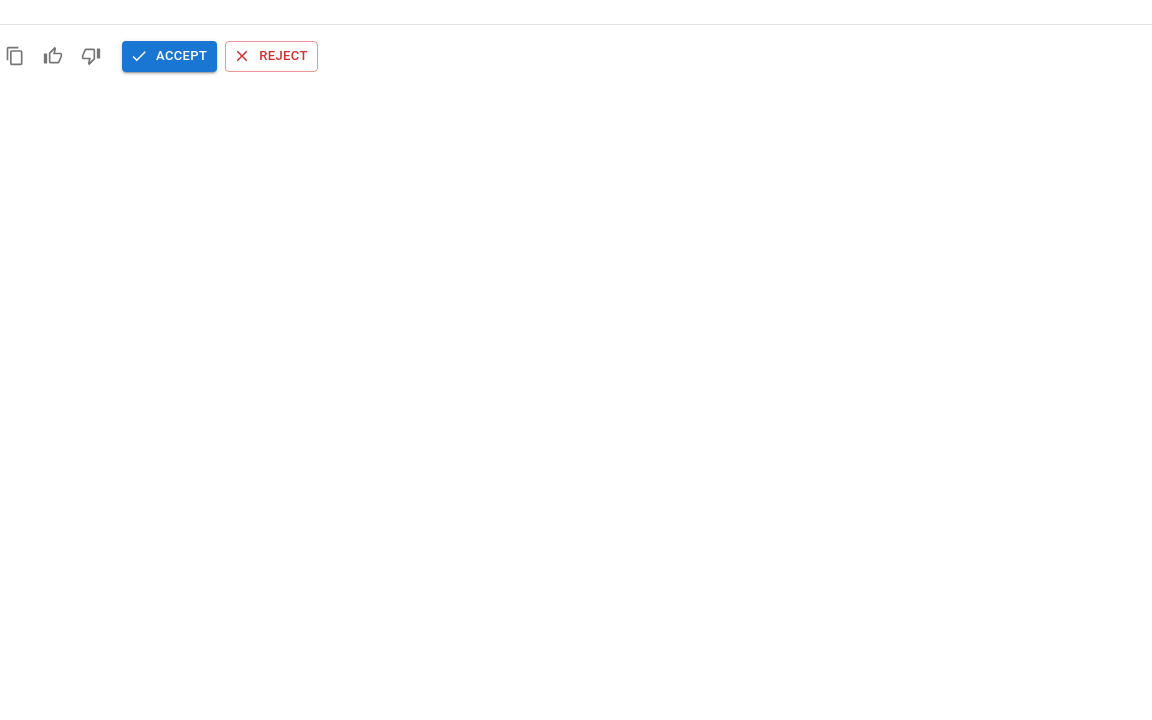
Scenario: FeedbackControls › Thumbs Up/Down Functionality › should toggle thumbs down state when clicked
Click thumbs down
What coordinates should you click on to do the following:
click the button named "Not helpful"
I would click on:
 (91, 56)
Its box is [76,41,106,72].
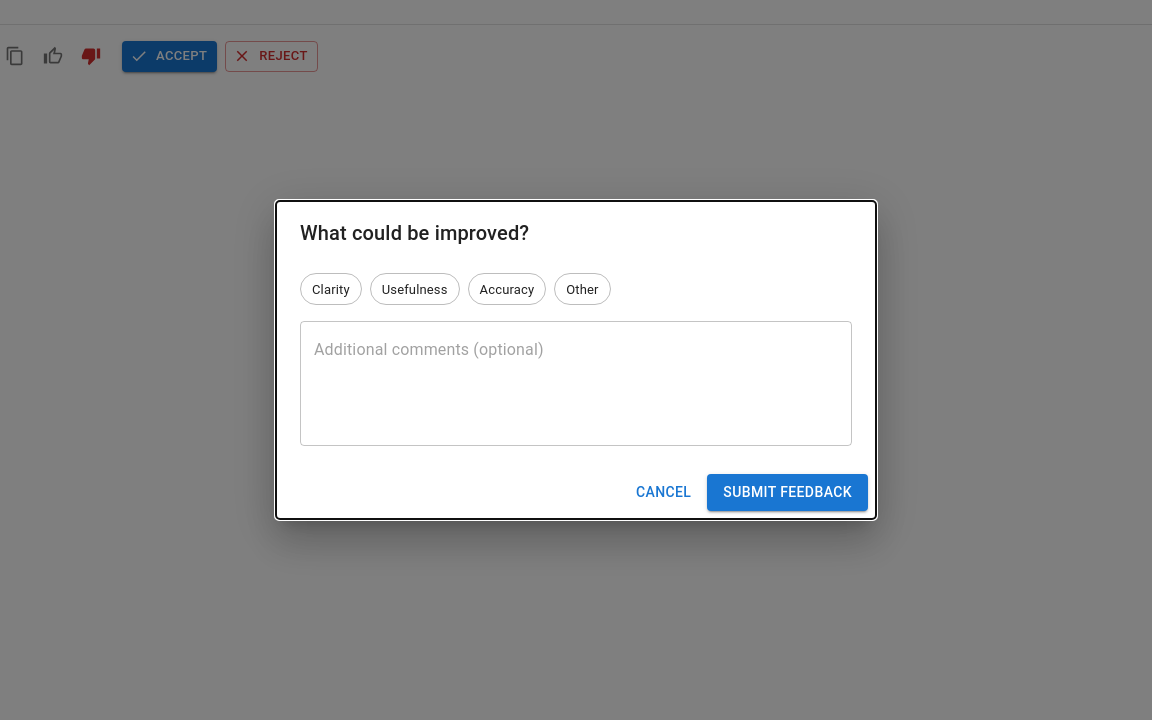
expect the heading "What could be improved?" is shown: met, box [300,221,529,245]
